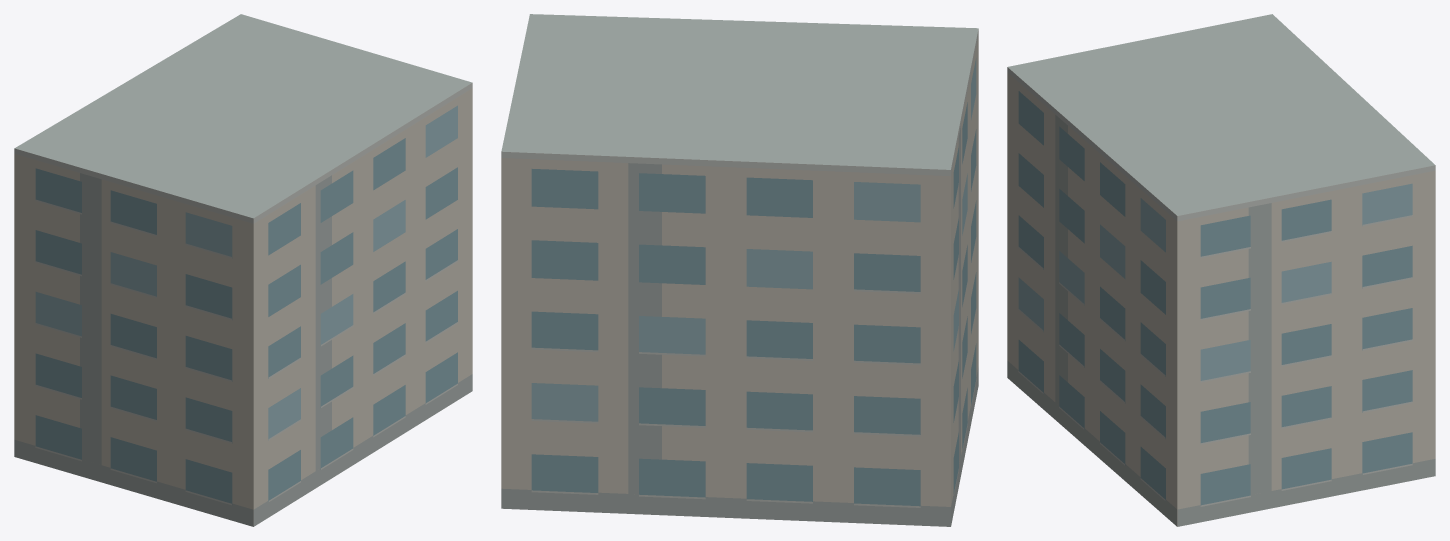
File: survey-upis-32800760.glb
3 renders of one model, left to right at view 1: azimuth 30°, elevation 25°; view 2: azimuth 150°, elevation 25°; view 3: azimuth 270°, elevation 25°, orthographic. The views are drawn at different scales.
Parts seen in each view (by area): view 1: survey-upis-32800760.tmp; view 2: survey-upis-32800760.tmp; view 3: survey-upis-32800760.tmp.
Part boxes in pixels (x1,y1,x2,y2): survey-upis-32800760.tmp: (14,14,472,526); survey-upis-32800760.tmp: (501,14,978,526); survey-upis-32800760.tmp: (1007,14,1435,526).
Size of the model in its own units: 19.56 by 14.02 by 17.52.
